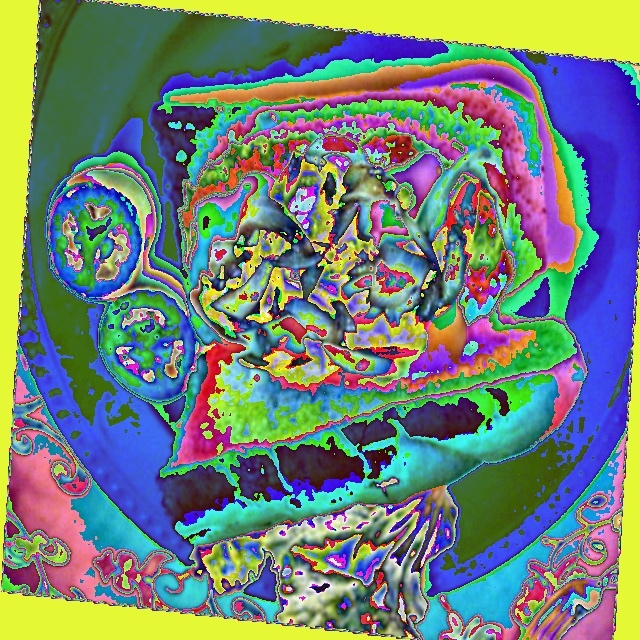background: (45, 80, 589, 639)
